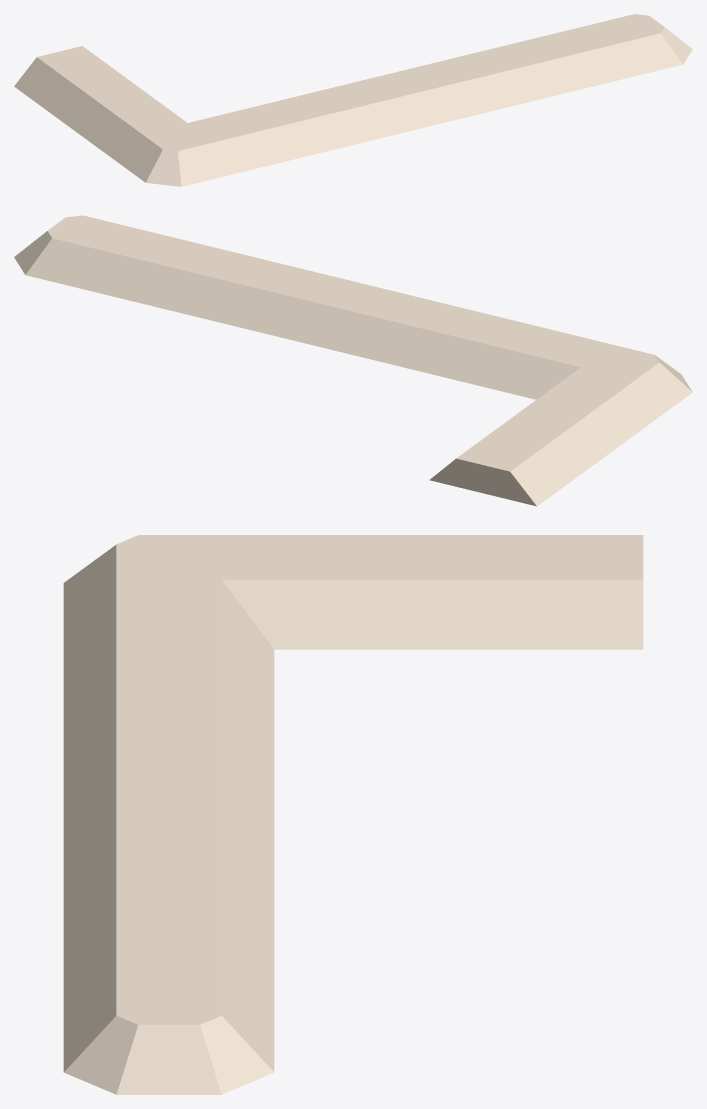
The model's file is Puzzle_Closed_Conduit_Control_Connector.glb.
3 renders of one model, top to bottom at view 1: azimuth 30°, elevation 25°; view 2: azimuth 150°, elevation 25°; view 3: azimuth 270°, elevation 25°, orthographic. The views are drawn at different scales.
Visible parts, largest first — view 1: Sandstone_Trim; view 2: Sandstone_Trim; view 3: Sandstone_Trim.
Part boxes in pixels (<box>): Sandstone_Trim: <box>14,14,692,186</box>; Sandstone_Trim: <box>14,215,692,506</box>; Sandstone_Trim: <box>63,535,643,1094</box>.
Bounding box in the file's own units: 0.6 × 0.025 × 0.275.
